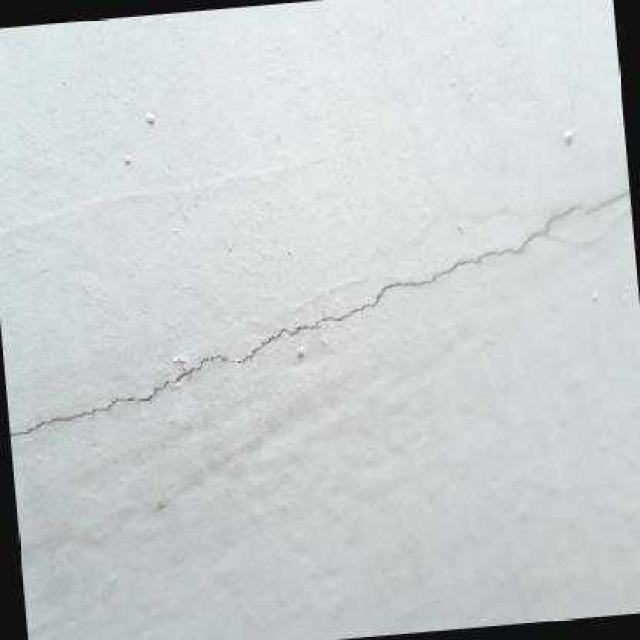D00: (9, 205, 578, 436)
